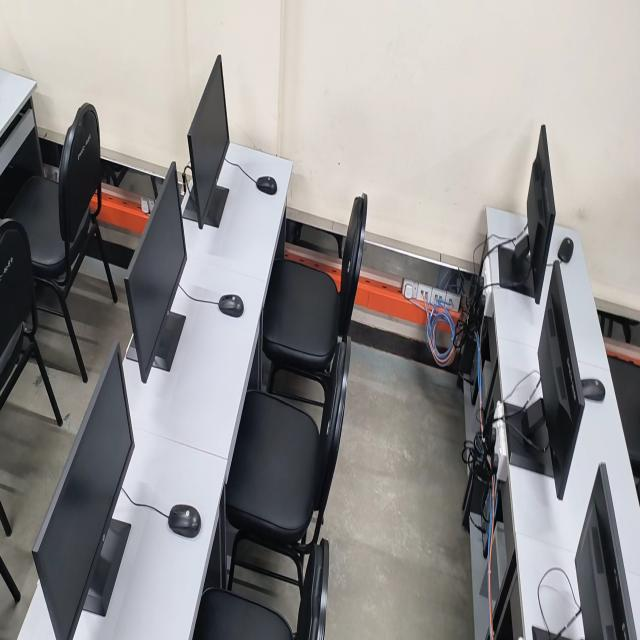Chair: (228, 336, 353, 528), (265, 188, 370, 366), (26, 103, 103, 287), (199, 539, 328, 640), (0, 208, 32, 415)
Monitor: (46, 348, 135, 640), (507, 267, 580, 490), (126, 160, 185, 376), (564, 461, 628, 640), (182, 45, 228, 231), (506, 123, 550, 300)
Mouse: (166, 492, 201, 545), (216, 291, 245, 321), (583, 375, 608, 405), (557, 231, 576, 267), (255, 172, 278, 199)
